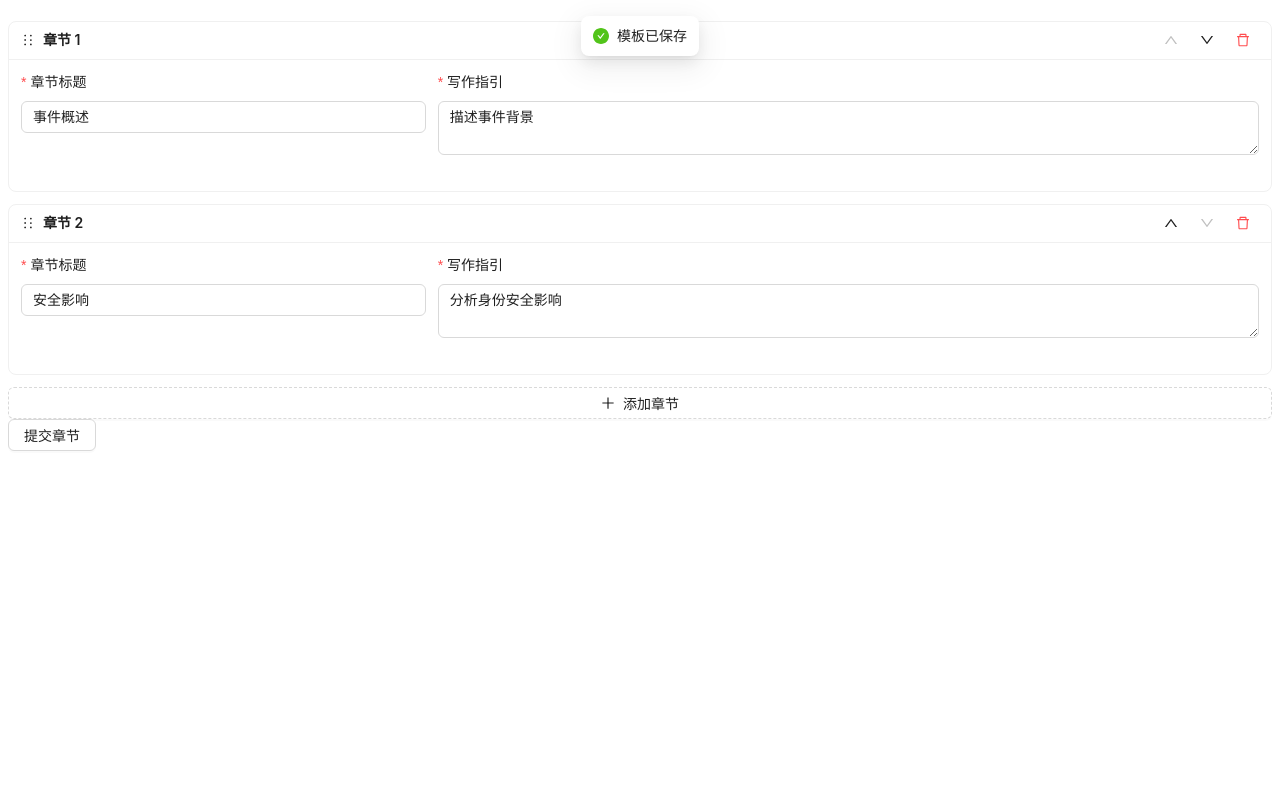
SectionEditor › adds and deletes sections while preserving at least one section
The image size is (1280, 800).
Click the button "添加章节": (640, 402) [8,386,1272,418]
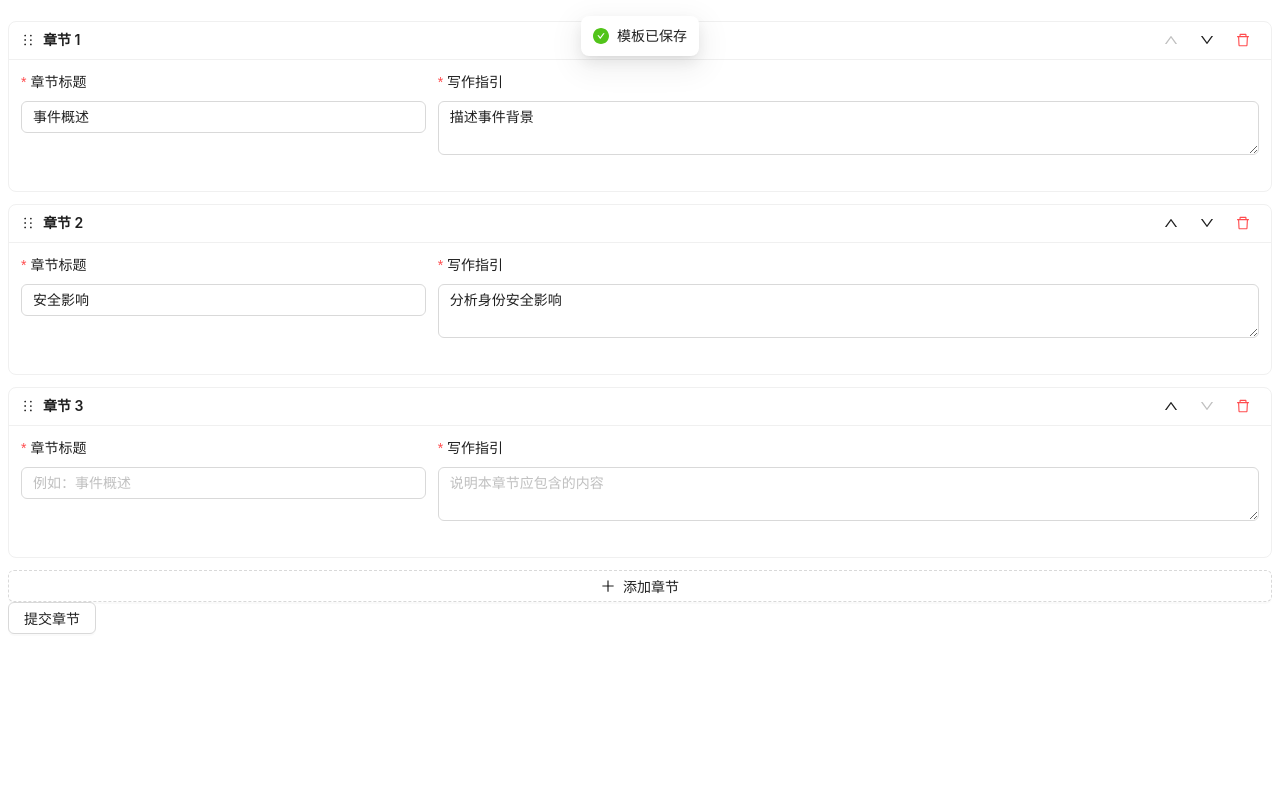
Expected: the number of fields labelled "章节标题" is 3, [21,100,426,132]; [21,284,426,316]; [21,466,426,498]
Click the button named "删除章节 3": (1243, 406) [1227,390,1259,422]
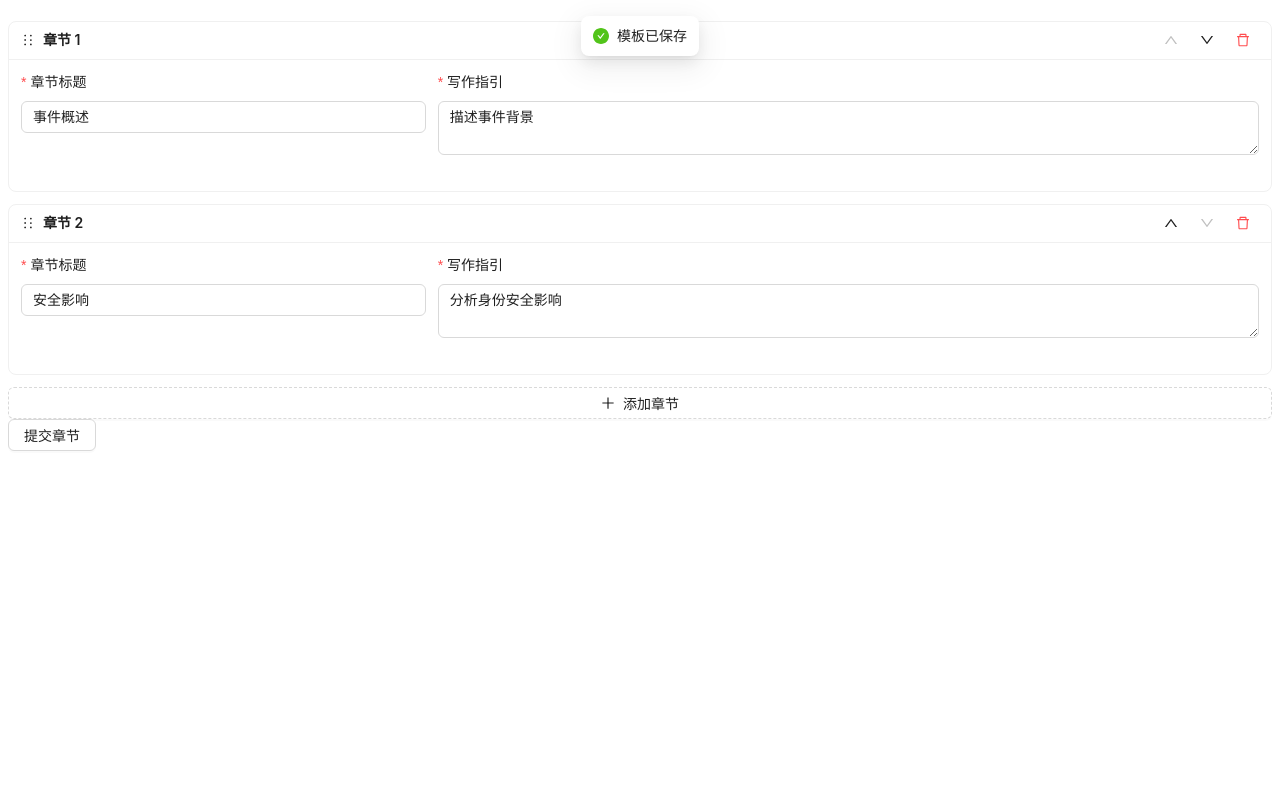
Expected: the number of fields labelled "章节标题" is 2, [21,100,426,132]; [21,284,426,316]
Click the button named "删除章节 2": (1243, 223) [1227,207,1259,239]
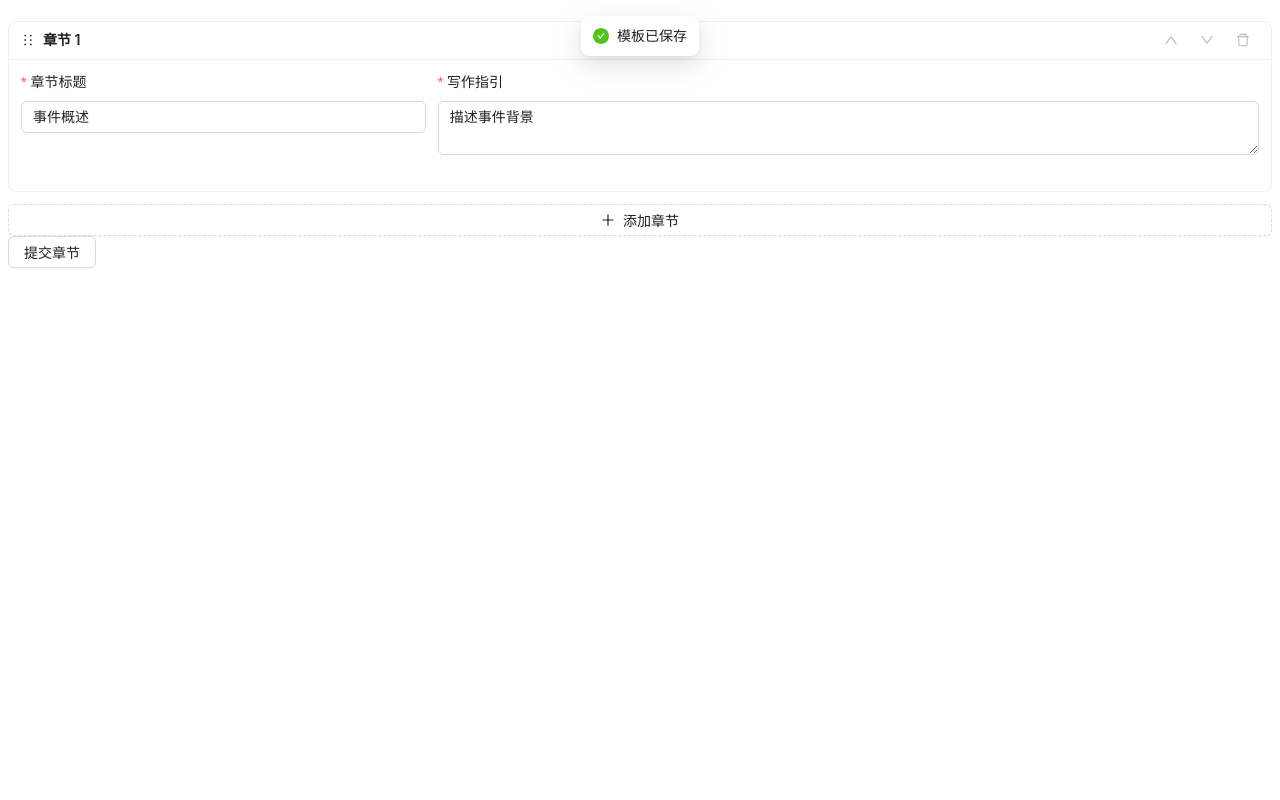
Expected: the number of fields labelled "章节标题" is 1, [21,100,426,132]
Expected: the button named "删除章节 1" is disabled, [1227,24,1259,56]
